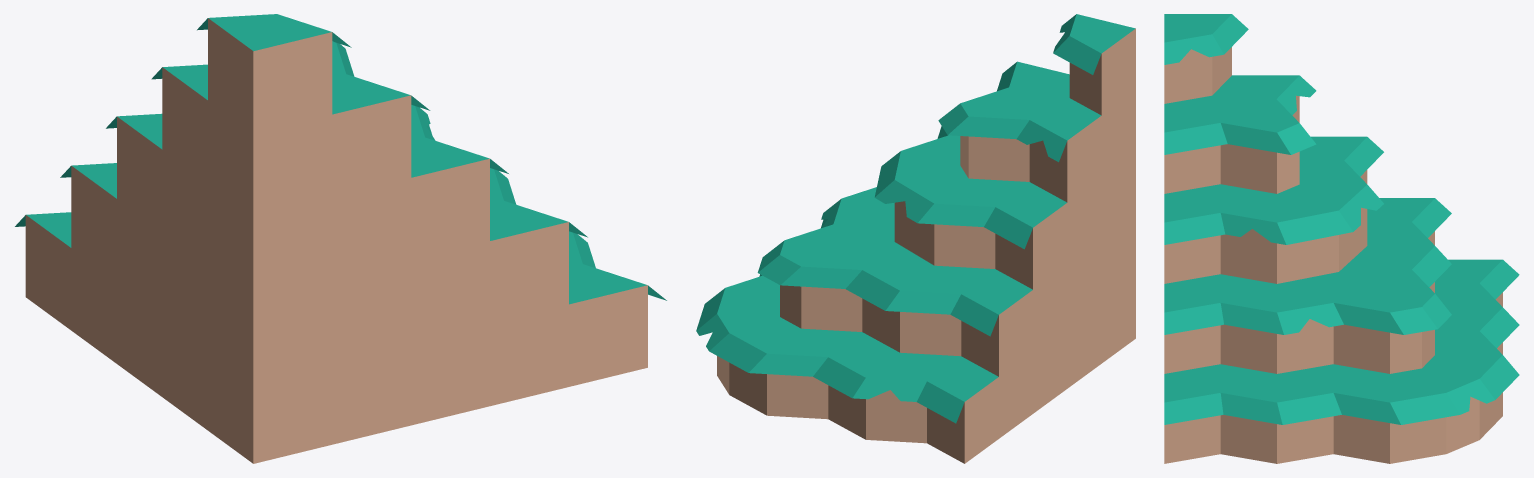
Rendered from cliff_stepsCorner_rock.glb.
3 renders of one model, left to right at view 1: azimuth 30°, elevation 25°; view 2: azimuth 150°, elevation 25°; view 3: azimuth 270°, elevation 25°, orthographic. The views are drawn at different scales.
Visible parts, largest first — view 1: cliff_stepsCorner_rock; view 2: cliff_stepsCorner_rock; view 3: cliff_stepsCorner_rock.
Part boxes in pixels (x1,y1,x2,y2): cliff_stepsCorner_rock: (15,14,666,463); cliff_stepsCorner_rock: (696,14,1135,463); cliff_stepsCorner_rock: (1164,14,1519,463).
Bounding box in the file's own units: 1.05 × 1 × 1.05.
